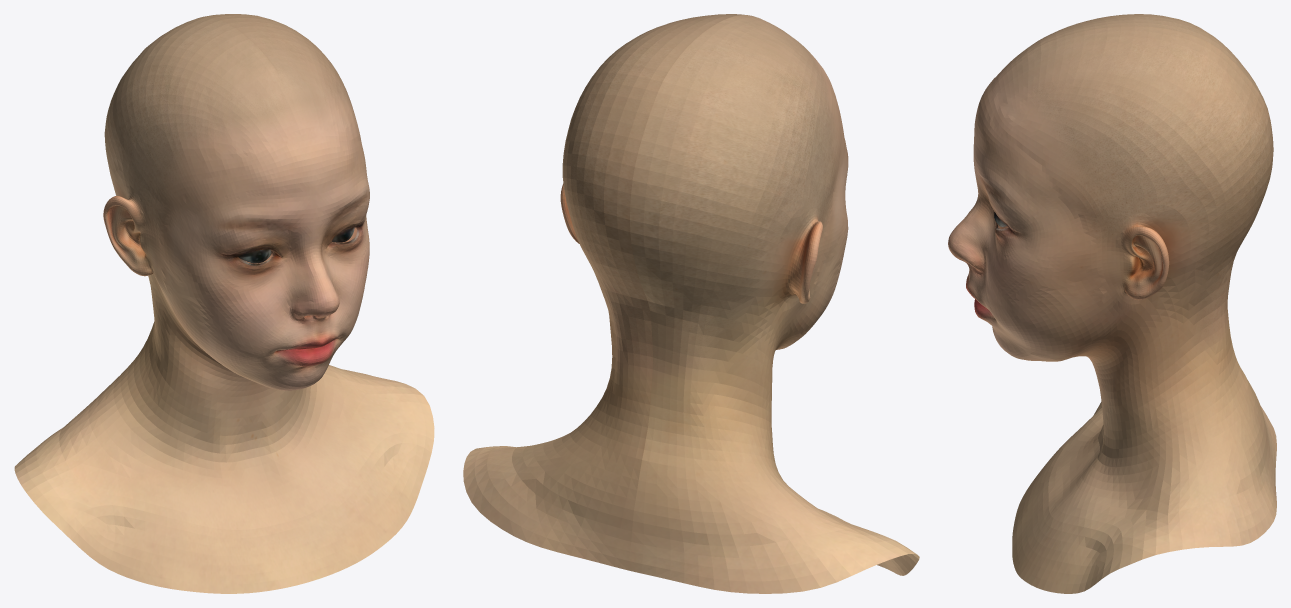
3 renders of one model, left to right at view 1: azimuth 30°, elevation 25°; view 2: azimuth 150°, elevation 25°; view 3: azimuth 270°, elevation 25°, orthographic. The views are drawn at different scales.
Parts seen in each view (by area): view 1: head_lod0_mesh; view 2: head_lod0_mesh; view 3: head_lod0_mesh.
Part boxes in pixels (x1,y1,x2,y2): head_lod0_mesh: (14, 14, 434, 593); head_lod0_mesh: (463, 14, 919, 593); head_lod0_mesh: (948, 14, 1276, 593).
Bounding box in the file's own units: 29.88 × 36.85 × 21.05.
5 materials, 4 textured.
